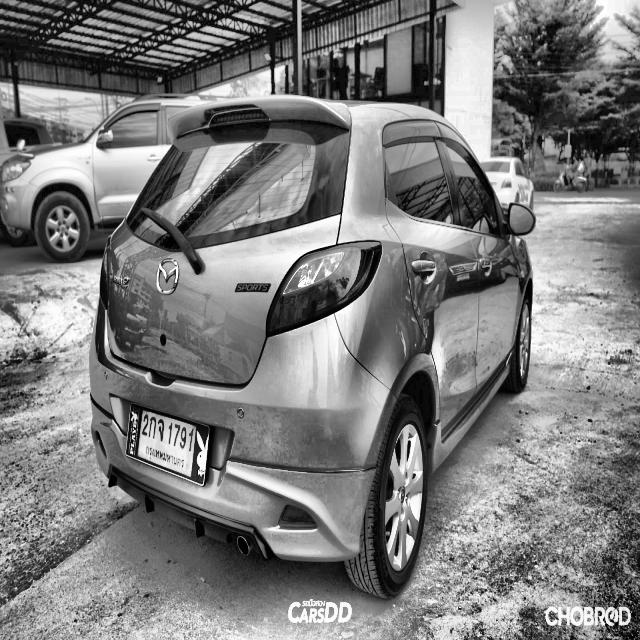license-plate: (121, 402, 217, 490)
